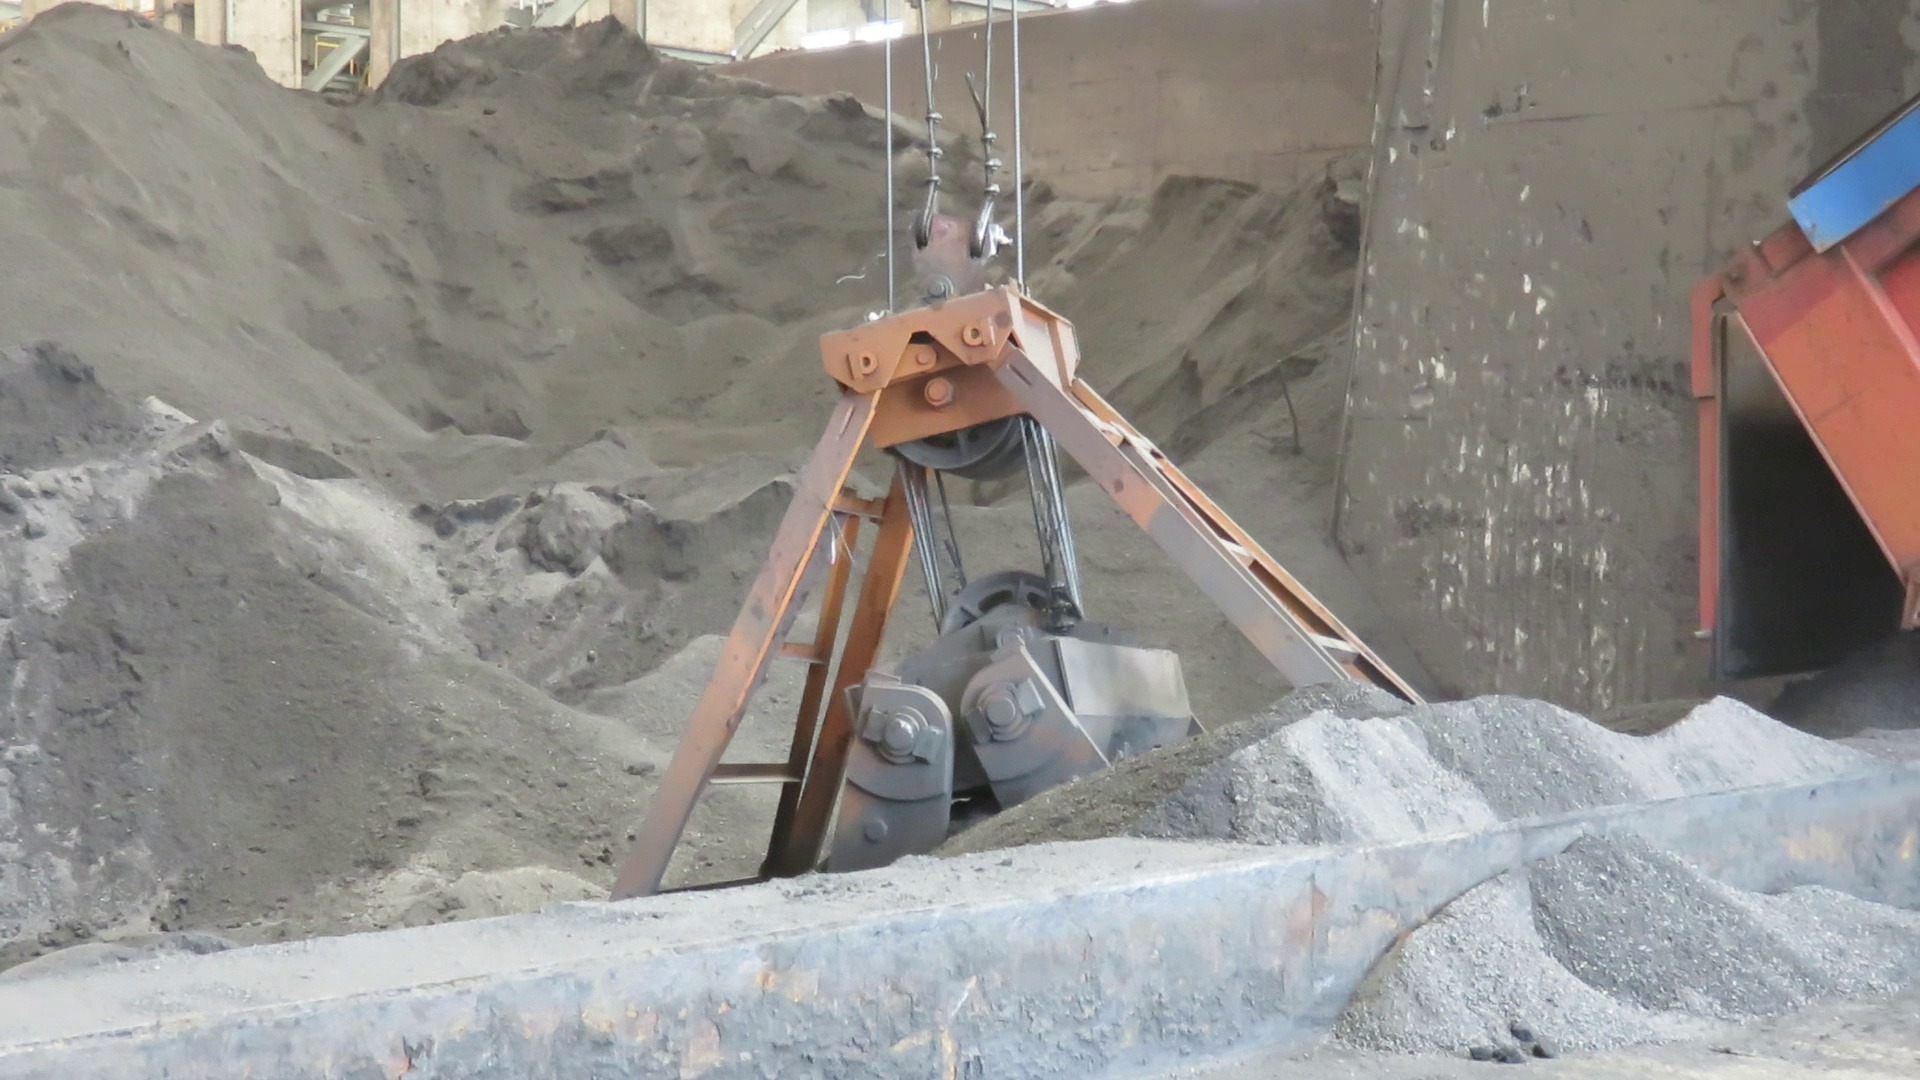grab: (582, 179, 1462, 913)
